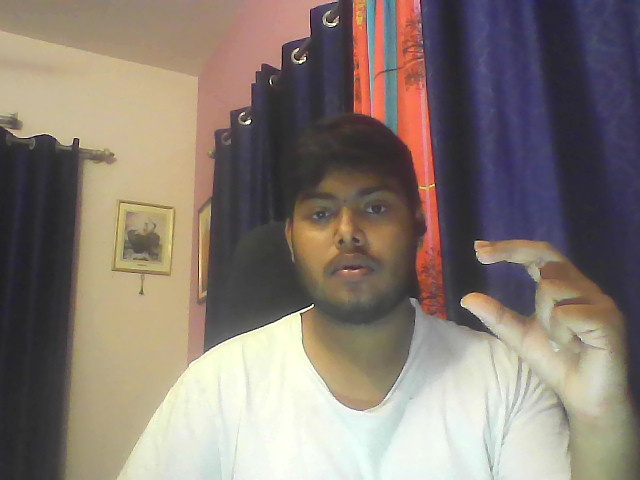No: (445, 227, 639, 412)
